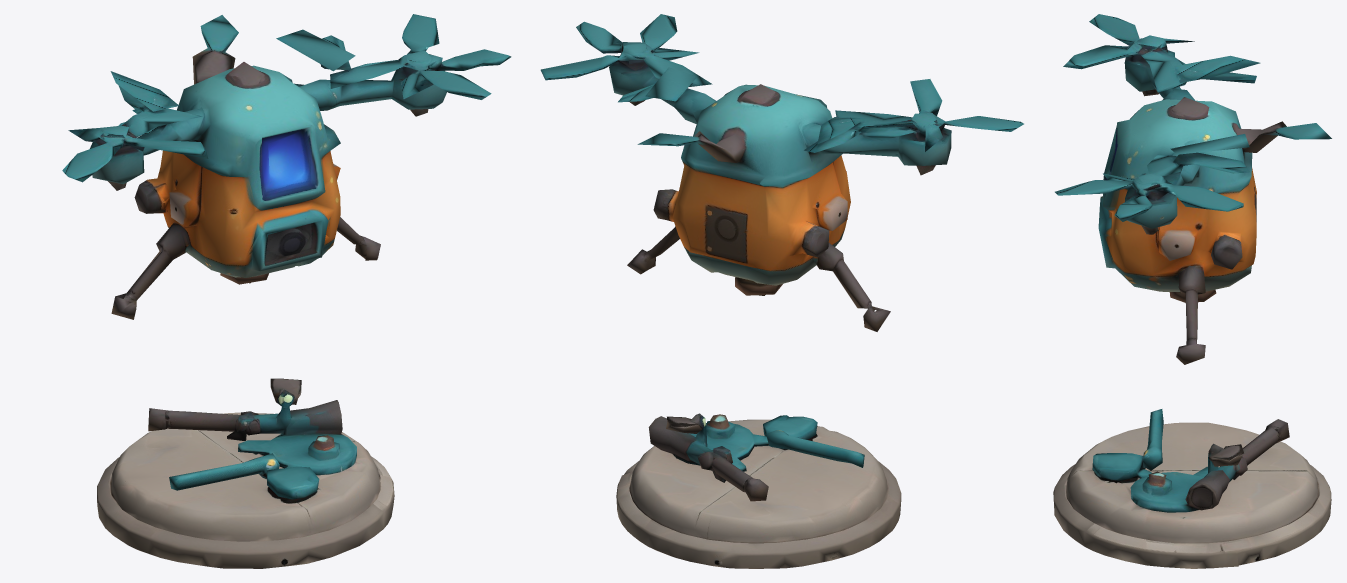
Rendered from utility_wandering_bot_3000.glb.
3 views of the same model, side by side, from view 1: azimuth 30°, elevation 25°; view 2: azimuth 150°, elevation 25°; view 3: azimuth 270°, elevation 25° (orthographic). The views are drawn at different scales.
Parts seen in each view (by area): view 1: tripo_node_6c00ba35-9dce-4f4c-86e2-a69608ec3891; view 2: tripo_node_6c00ba35-9dce-4f4c-86e2-a69608ec3891; view 3: tripo_node_6c00ba35-9dce-4f4c-86e2-a69608ec3891.
Boxes of the visible parts, <box> form: tripo_node_6c00ba35-9dce-4f4c-86e2-a69608ec3891: <box>62,14,511,568</box>; tripo_node_6c00ba35-9dce-4f4c-86e2-a69608ec3891: <box>540,14,1023,568</box>; tripo_node_6c00ba35-9dce-4f4c-86e2-a69608ec3891: <box>1053,14,1331,568</box>.
Size of the model in its own units: 0.9844 by 0.9001 by 0.56.
1 material, 1 textured.
